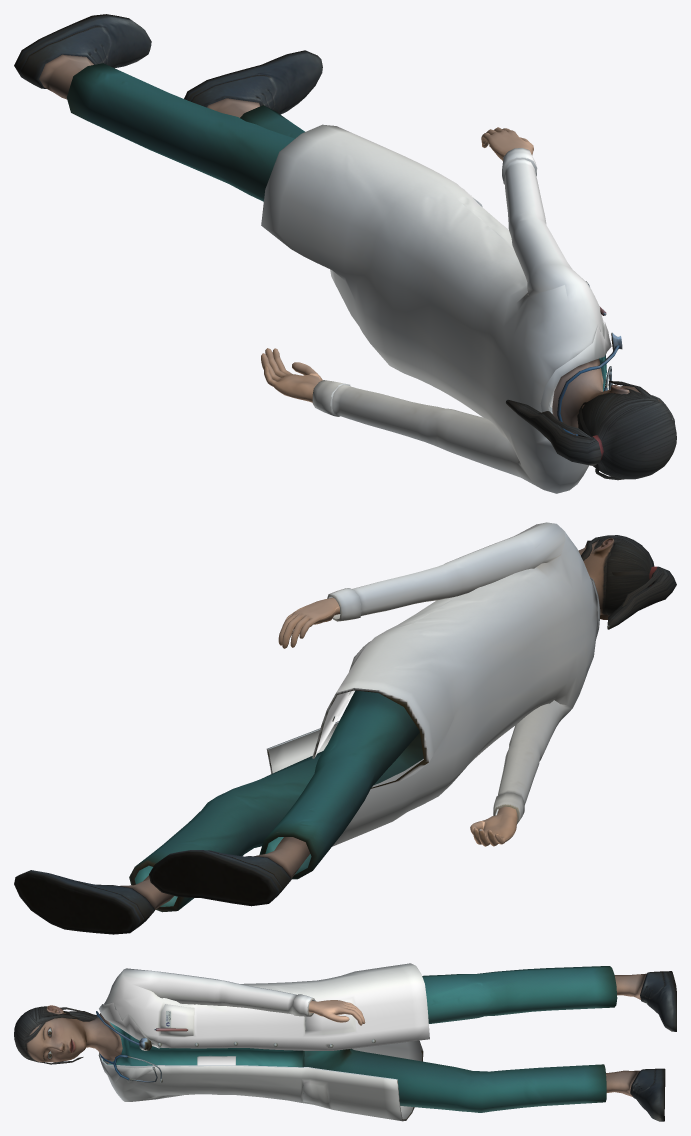
Rendered from walk.obj.
3 renders of one model, top to bottom at view 1: azimuth 30°, elevation 25°; view 2: azimuth 150°, elevation 25°; view 3: azimuth 270°, elevation 25°, orthographic. The views are drawn at different scales.
Bounding box in the file's own units: 0.5691 × 0.3892 × 1.72.
Materials: 1 (1 with a texture image).
